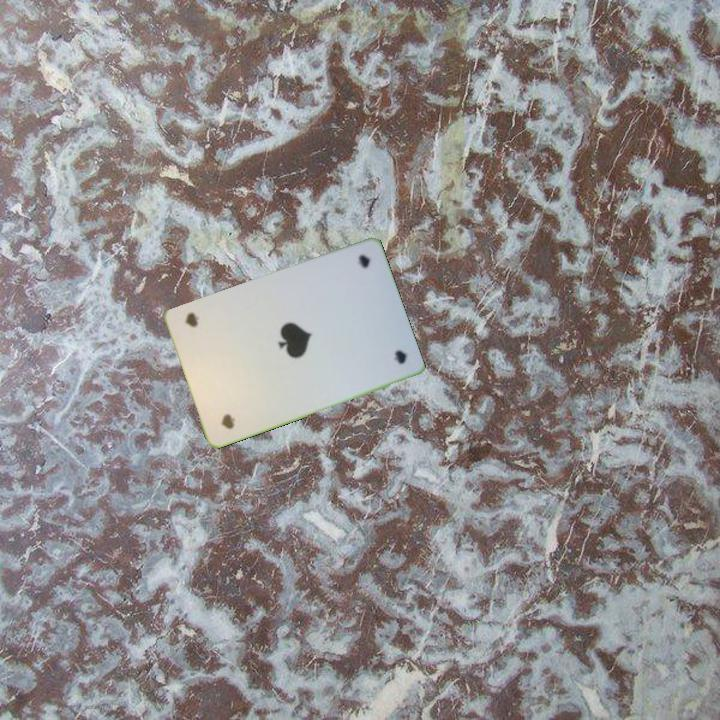s_a.png: (318, 248, 393, 329), (194, 357, 269, 438)
